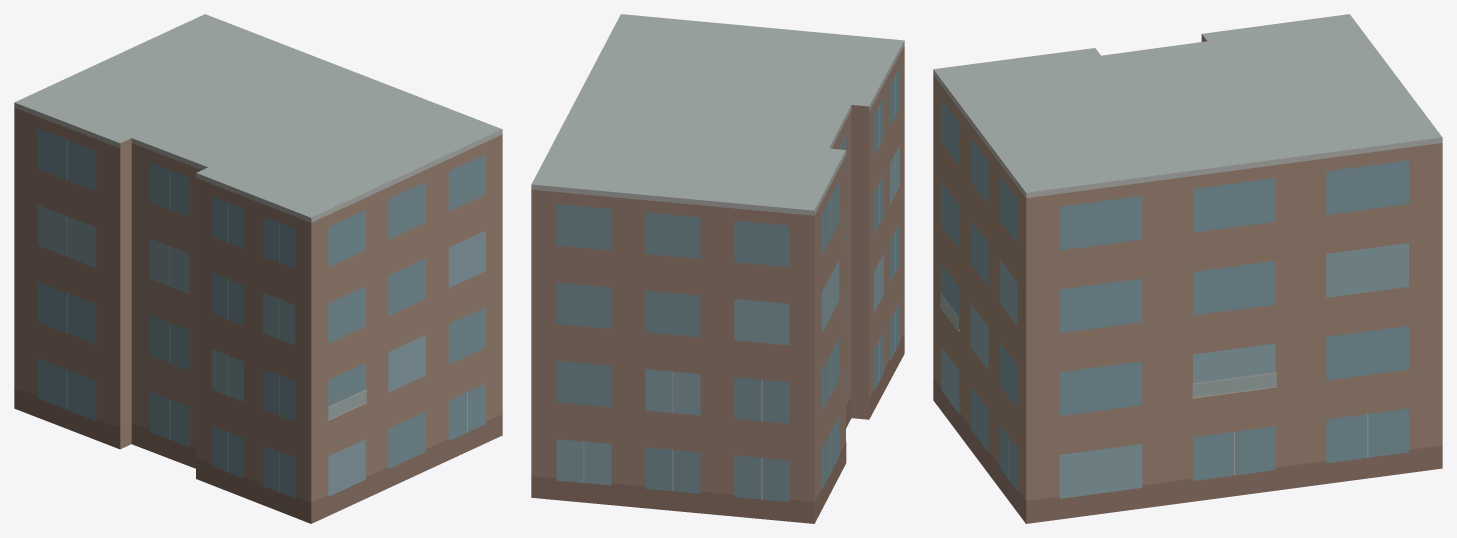
The model's file is survey-upis-32857906.glb.
3 renders of one model, left to right at view 1: azimuth 30°, elevation 25°; view 2: azimuth 150°, elevation 25°; view 3: azimuth 270°, elevation 25°, orthographic. The views are drawn at different scales.
Parts seen in each view (by area): view 1: survey-upis-32857906.tmp; view 2: survey-upis-32857906.tmp; view 3: survey-upis-32857906.tmp.
Boxes of the visible parts, <box> form: survey-upis-32857906.tmp: <box>14,14,502,523</box>; survey-upis-32857906.tmp: <box>531,14,904,523</box>; survey-upis-32857906.tmp: <box>933,14,1442,523</box>.
Bounding box in the file's own units: 17.12 × 14.77 × 20.6.
